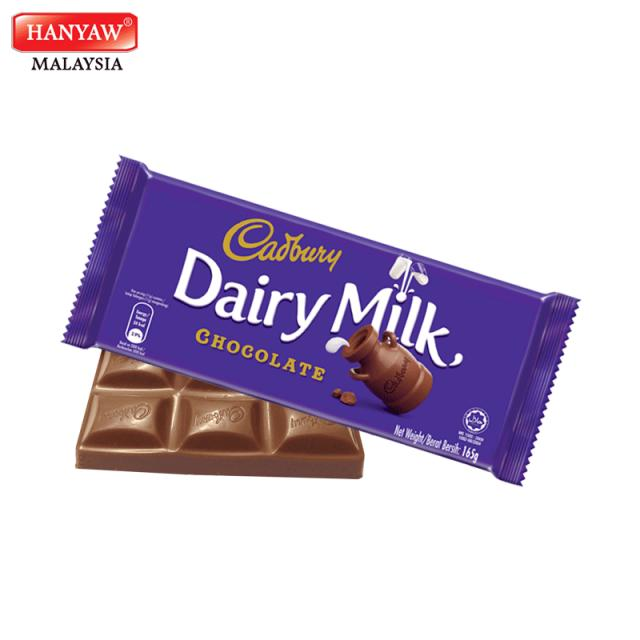cadbury: (61, 154, 579, 486)
